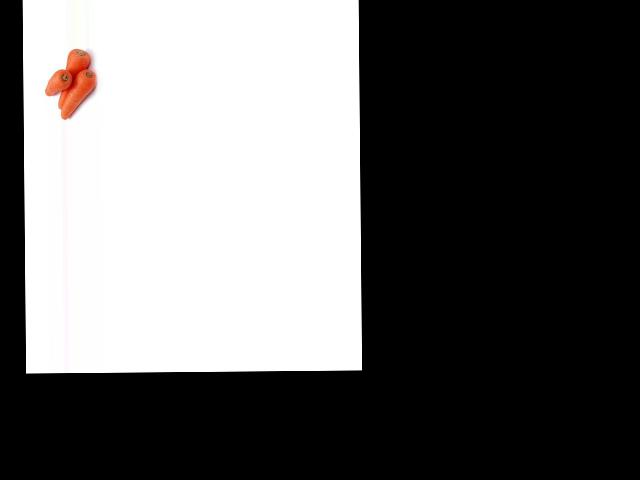carrot: (57, 47, 91, 116)
